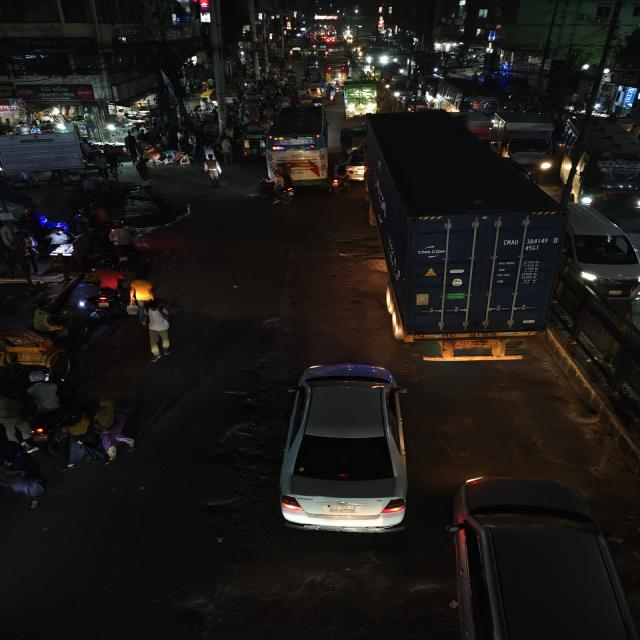bicycle: (262, 168, 298, 205)
bus: (557, 114, 640, 208), (260, 102, 336, 184), (437, 78, 500, 120), (323, 57, 351, 83)
car: (440, 476, 638, 640), (279, 360, 411, 536), (562, 202, 640, 298)
cng: (307, 85, 322, 98)
motorcycle: (12, 374, 82, 452), (86, 264, 128, 318), (104, 221, 154, 255), (260, 171, 298, 205)
pedestrian: (82, 395, 127, 465), (0, 445, 48, 509), (140, 301, 180, 364), (128, 274, 162, 314), (202, 154, 225, 188), (217, 133, 234, 164), (178, 153, 193, 170)
rickshaw: (0, 306, 99, 379)
truck: (363, 115, 563, 361), (487, 110, 556, 170), (342, 80, 381, 116)
